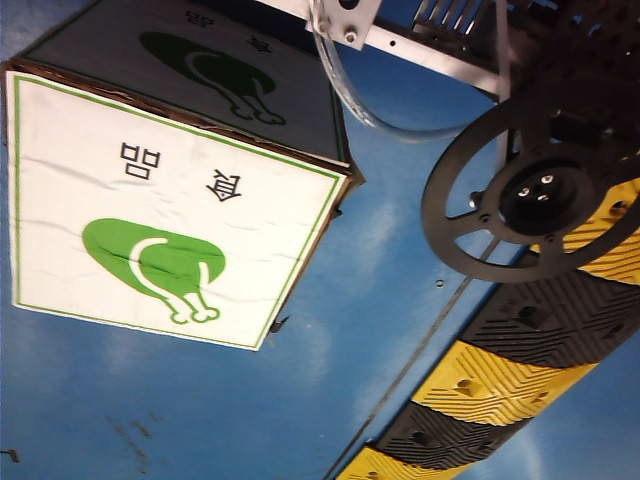Cube_food: (44, 133, 275, 328)
